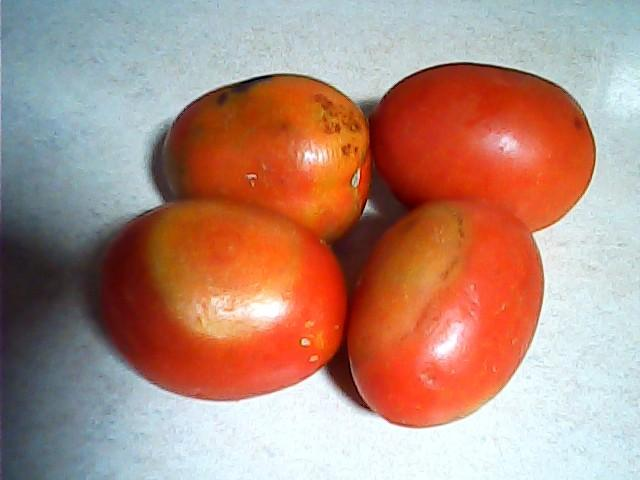defectuoso: (171, 72, 372, 239)
maduro: (91, 199, 348, 404), (344, 204, 545, 426), (372, 62, 597, 235)
